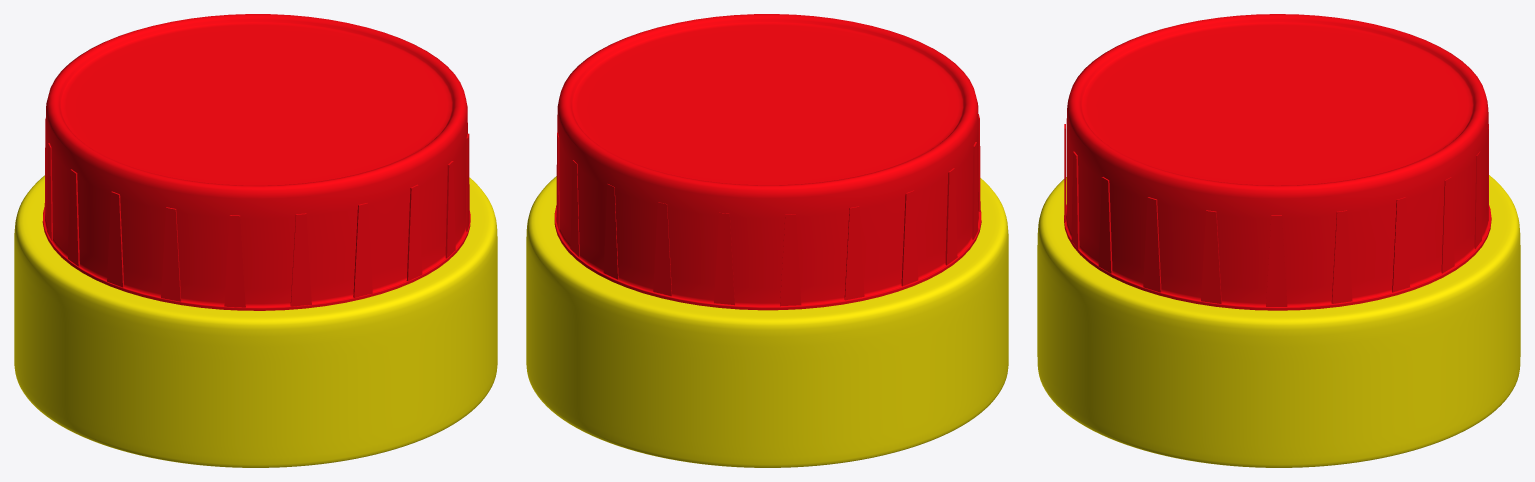
File: Cap7.glb
The picture shows the model from 3 angles, left to right: view 1: azimuth 30°, elevation 25°; view 2: azimuth 150°, elevation 25°; view 3: azimuth 270°, elevation 25°; orthographic projection.
Parts seen in each view (by area): view 1: thread.024, Cylinder.005, thread.017, thread.016, thread.018, thread.015, thread.019, thread.014, thread.020, thread.013; view 2: thread.024, Cylinder.005, thread.023, thread.004, thread.022, thread.005, thread.021, thread.006, thread.020, thread.007, thread.019; view 3: thread.024, Cylinder.005, thread.010, thread.011, thread.009, thread.012, thread.008, thread.013, thread.007, thread.014, thread.006.
Boxes of the visible parts, x1,y1,x2,y2 form: thread.024: [42, 14, 470, 310]; Cylinder.005: [14, 175, 497, 467]; thread.017: [224, 215, 245, 307]; thread.016: [290, 213, 311, 306]; thread.018: [161, 207, 181, 301]; thread.015: [353, 203, 372, 297]; thread.019: [107, 191, 123, 287]; thread.014: [406, 184, 422, 281]; thread.020: [68, 169, 79, 266]; thread.013: [445, 161, 455, 258]; thread.024: [554, 14, 981, 310]; Cylinder.005: [526, 176, 1008, 467]; thread.023: [780, 214, 801, 306]; thread.004: [714, 212, 734, 305]; thread.022: [844, 206, 864, 300]; thread.005: [653, 202, 671, 296]; thread.021: [901, 190, 918, 286]; thread.006: [603, 184, 618, 279]; thread.020: [945, 168, 957, 265]; thread.007: [570, 160, 579, 256]; thread.019: [972, 142, 978, 239]; thread.024: [1064, 14, 1491, 310]; Cylinder.005: [1037, 175, 1520, 467]; thread.010: [1266, 215, 1287, 306]; thread.011: [1201, 210, 1221, 303]; thread.009: [1331, 210, 1352, 303]; thread.012: [1143, 197, 1161, 292]; thread.008: [1392, 197, 1409, 292]; thread.013: [1098, 177, 1112, 273]; thread.007: [1441, 177, 1454, 273]; thread.014: [1071, 151, 1079, 249]; thread.006: [1474, 152, 1481, 248].
Bounding box in the file's own units: 0.0298 × 0.0181 × 0.0298.
